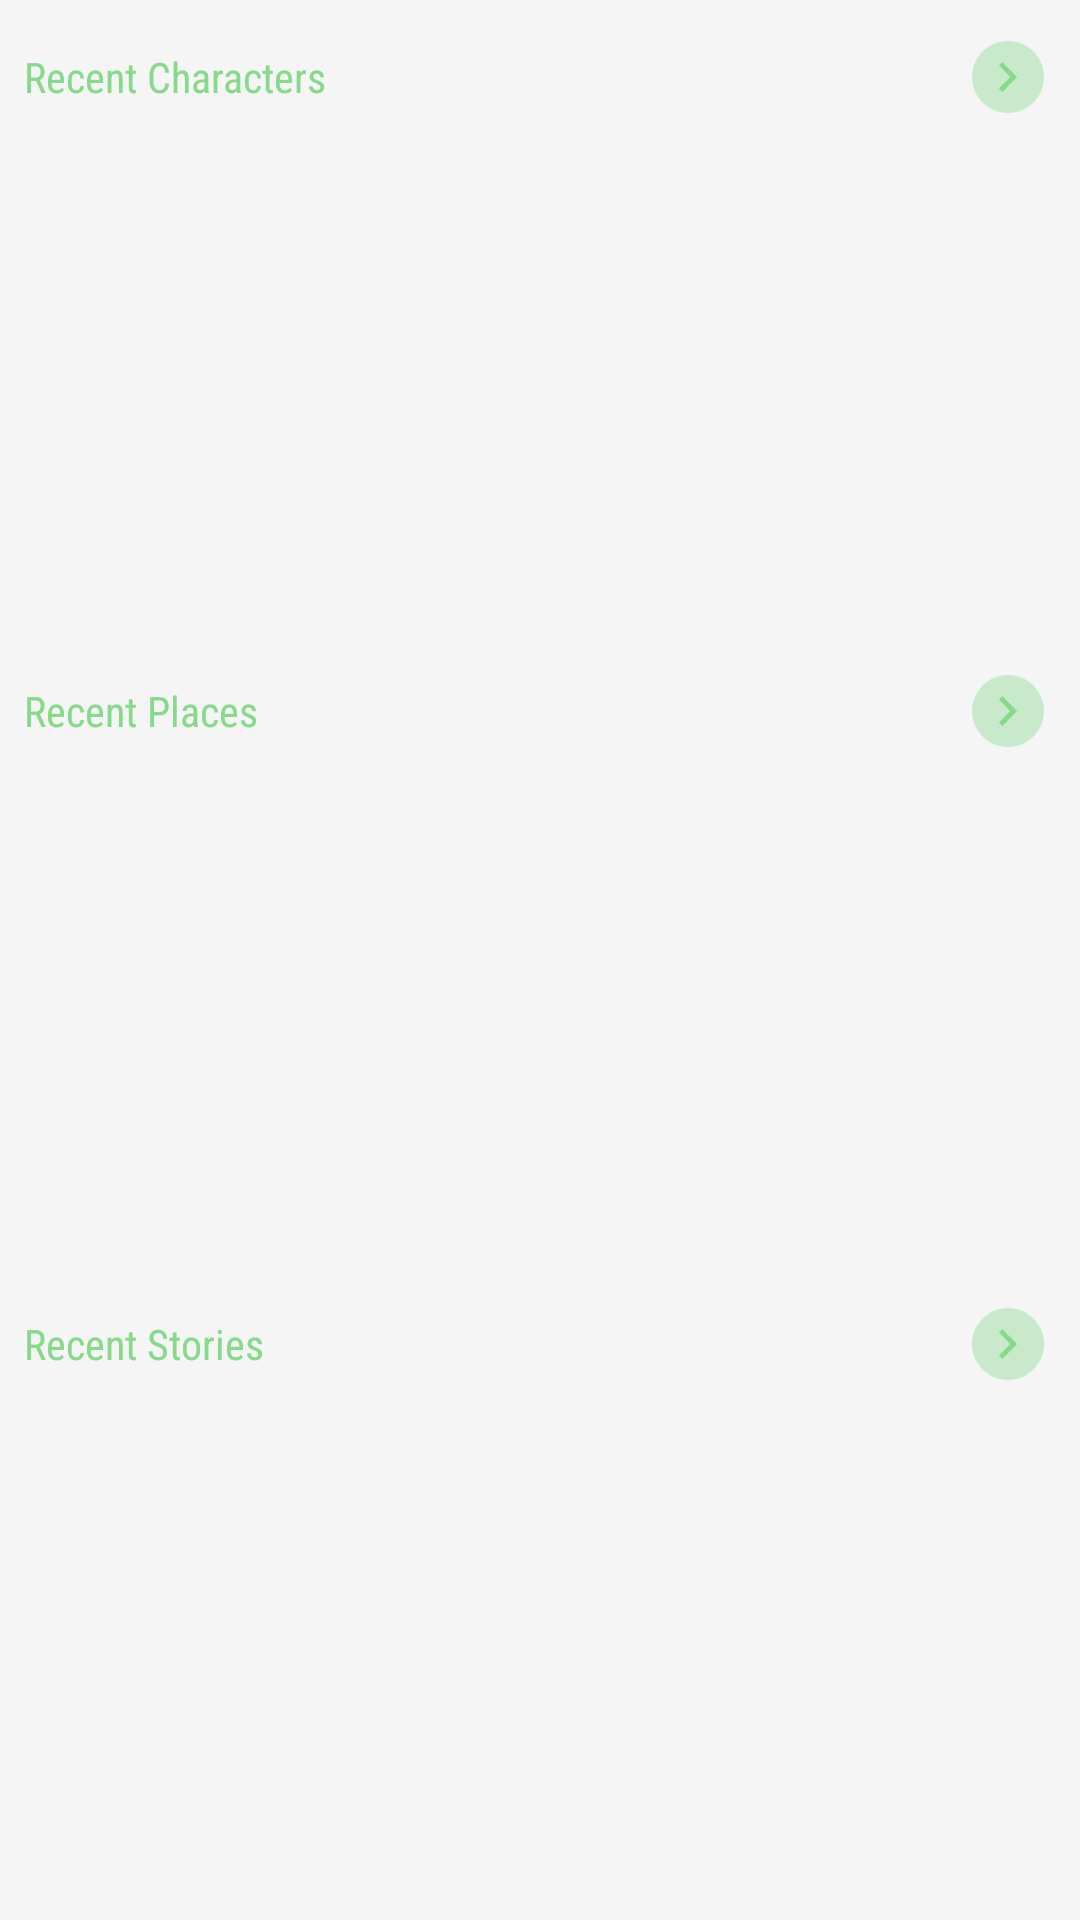

Named icons in this screenshot (1080px×1920px) and their bounding boxes, [x1,y1,x2,y2]:
Show all Characters: [972,41,1044,113]
Show all Places: [972,675,1044,747]
Show all Stories: [972,1308,1044,1380]
